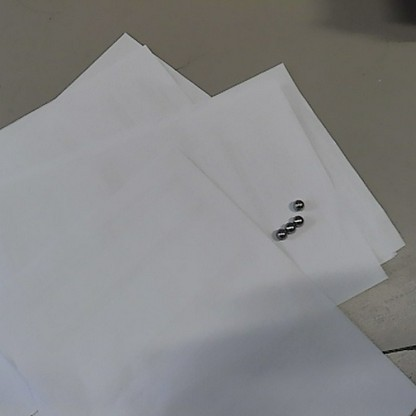ironball: (290, 197, 304, 214), (272, 226, 286, 243), (291, 212, 304, 229), (283, 219, 296, 234)
